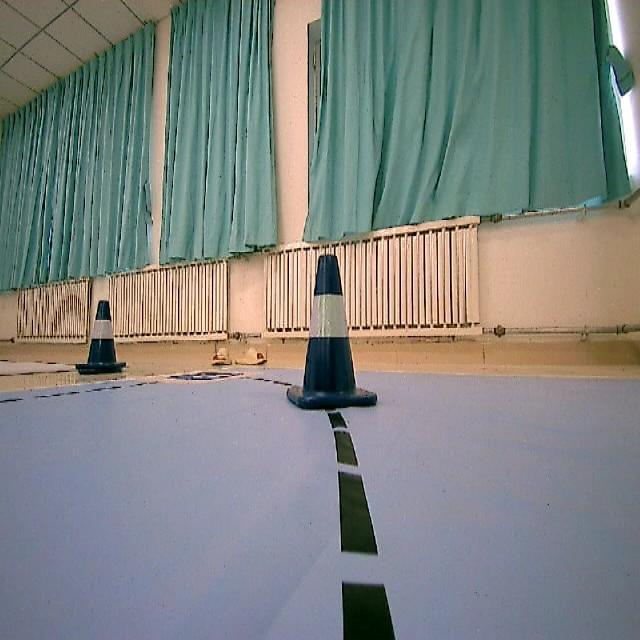obstacle: (285, 252, 382, 419), (71, 298, 136, 380)
